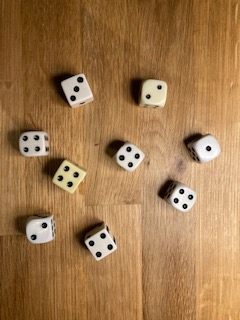four: (82, 221, 119, 262), (51, 158, 89, 194), (162, 181, 198, 213), (112, 141, 146, 172), (19, 131, 51, 156)
one: (187, 133, 222, 164)
three: (59, 73, 95, 108)
two: (23, 212, 58, 245), (139, 78, 168, 110)
